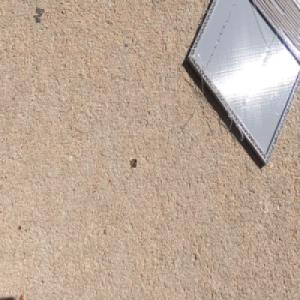PlasticPart: (186, 0, 300, 167)
